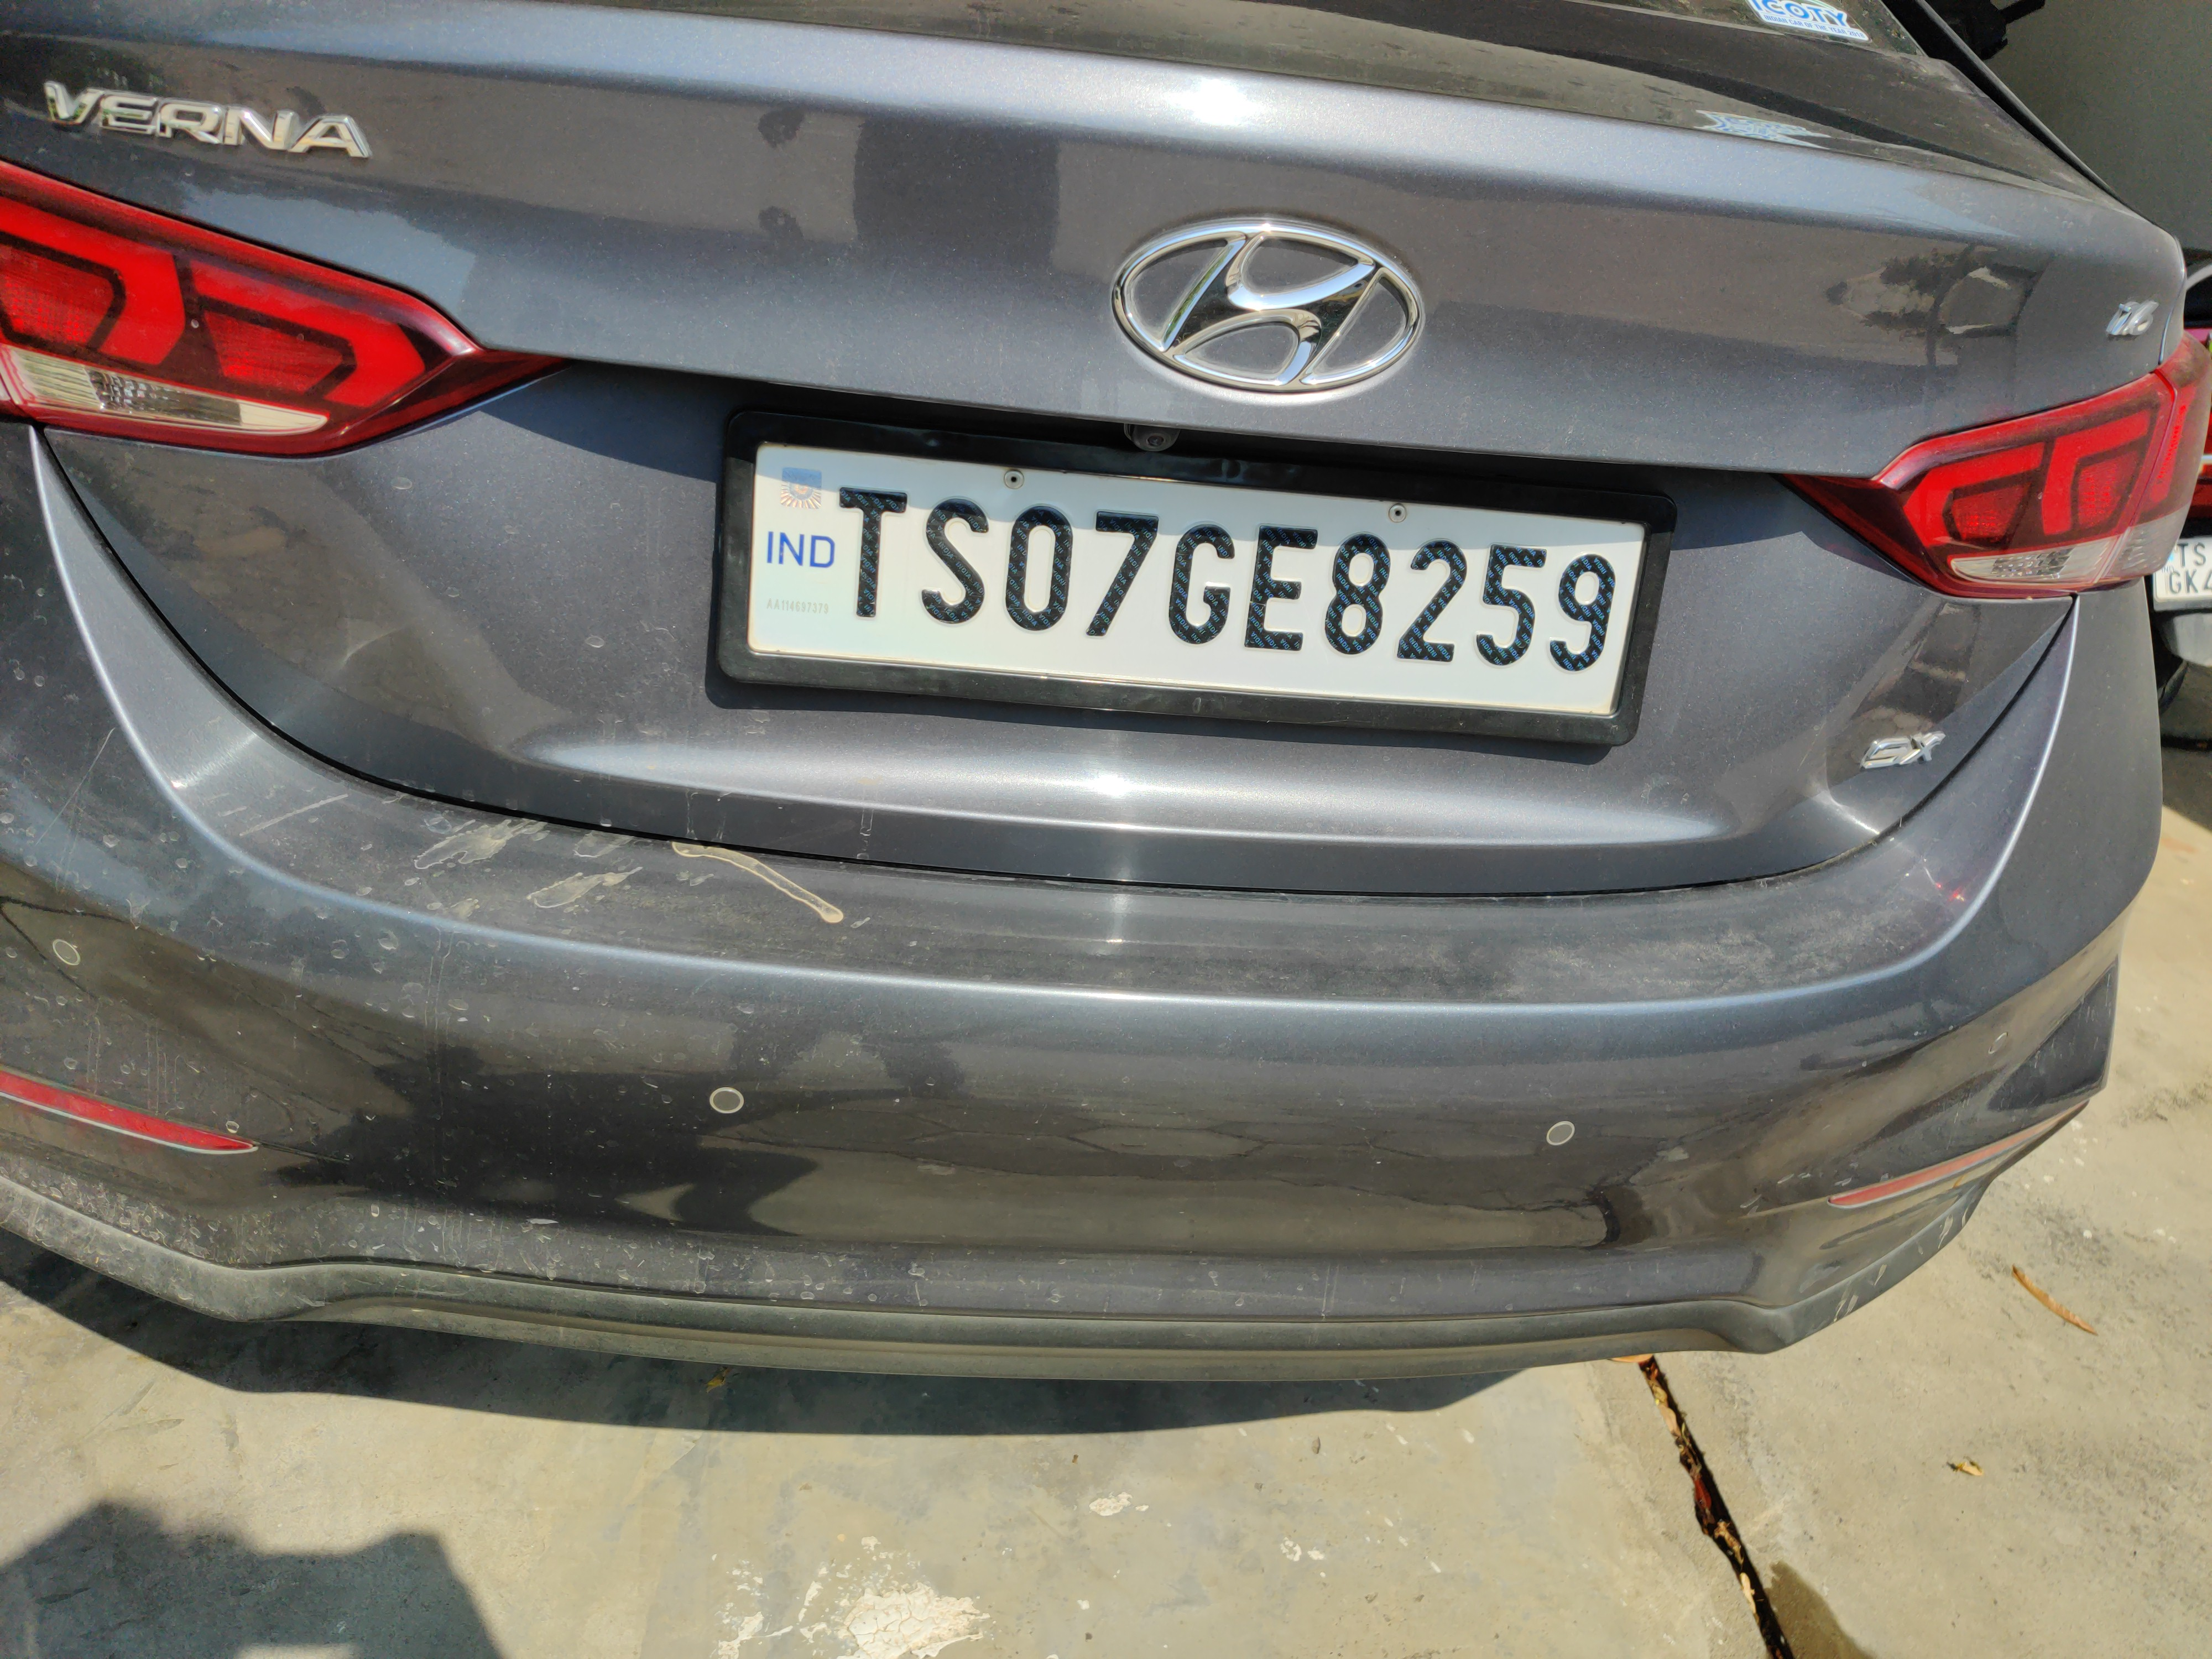plate: (654, 306, 1710, 841)
